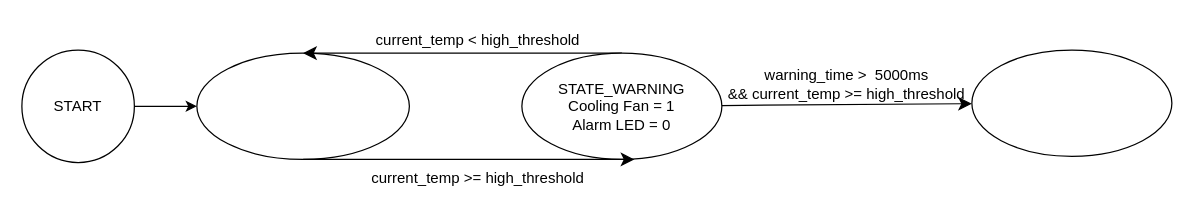
Some shapes in this 1194 by 218 pixel diagram are drawn without their labels. Each missing label, with the centre of its shape:
"STATE_EMERGENCY Cooling Fan = 1 Alarm LED = 1" belongs at [1071,102].
"STATE_SAFE Cooling Fan = 0 Alarm LED =0" belongs at [302,105].
